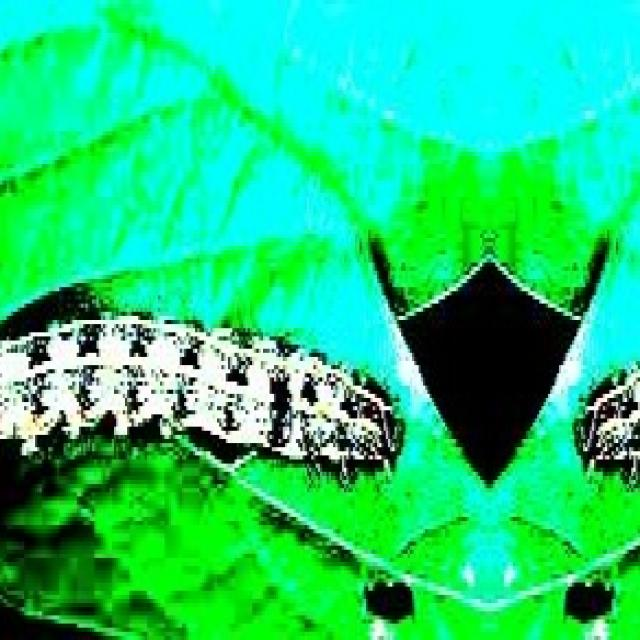Armyworm: (1, 284, 407, 544), (573, 348, 640, 540)
